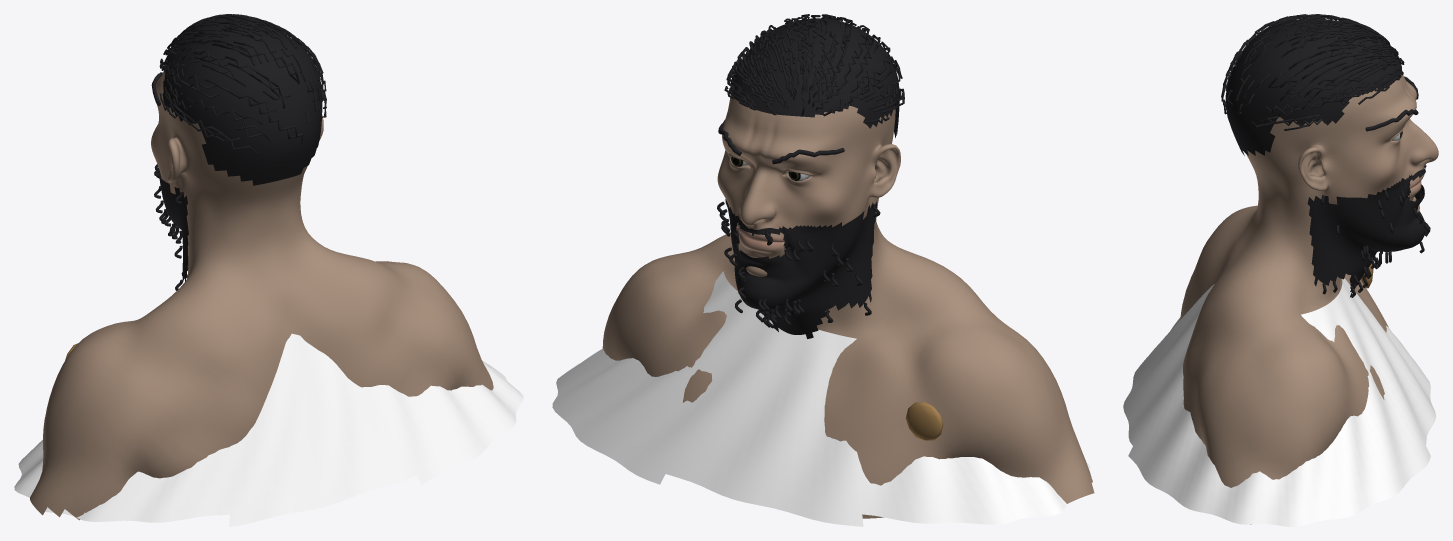
Rendered from envoy_023.glb.
3 renders of one model, left to right at view 1: azimuth 30°, elevation 25°; view 2: azimuth 150°, elevation 25°; view 3: azimuth 270°, elevation 25°, orthographic. The views are drawn at different scales.
Visible parts, largest first — view 1: Envoy 023 body, Folded shoulder mantle, Envoy 023 fitted scalp, Envoy 023 fitted beard; view 2: Envoy 023 body, Folded shoulder mantle, Envoy 023 fitted beard, Envoy 023 fitted scalp, Shoulder clasp; view 3: Envoy 023 body, Folded shoulder mantle, Envoy 023 fitted scalp, Envoy 023 fitted beard.
Part boxes in pixels (<box>): Envoy 023 body: <box>30,70,493,520</box>; Folded shoulder mantle: <box>14,333,523,526</box>; Envoy 023 fitted scalp: <box>162,19,322,185</box>; Envoy 023 fitted beard: <box>157,166,188,281</box>; Envoy 023 body: <box>602,95,1094,518</box>; Folded shoulder mantle: <box>552,271,1090,526</box>; Envoy 023 fitted beard: <box>725,199,876,338</box>; Envoy 023 fitted scalp: <box>730,18,899,137</box>; Shoulder clasp: <box>906,402,943,440</box>; Envoy 023 body: <box>1180,75,1438,524</box>; Folded shoulder mantle: <box>1123,278,1436,526</box>; Envoy 023 fitted scalp: <box>1225,18,1401,155</box>; Envoy 023 fitted beard: <box>1307,165,1426,297</box>.
Bounding box in the file's own units: 0.3039 × 0.2464 × 0.1783.
